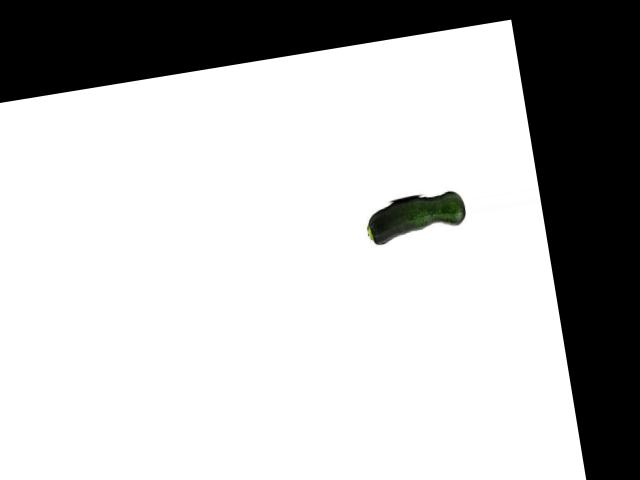cucumber: (362, 189, 468, 246)
